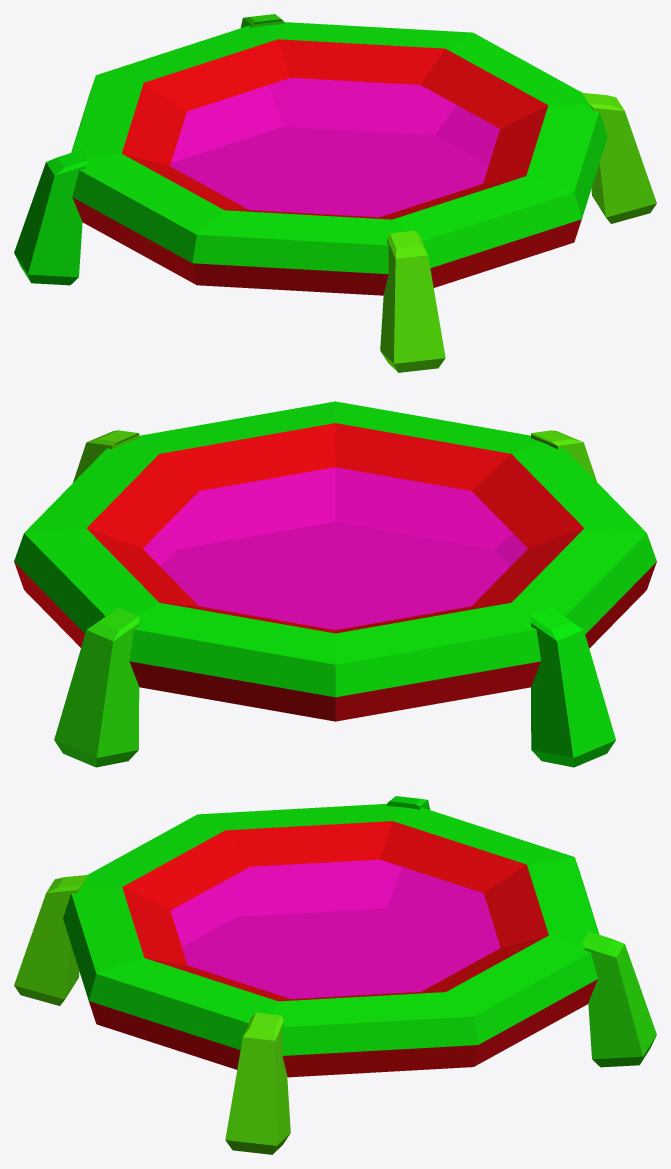
File: SuperBounce.fbx
The picture shows the model from 3 angles, top to bottom: view 1: azimuth 30°, elevation 25°; view 2: azimuth 150°, elevation 25°; view 3: azimuth 270°, elevation 25°; orthographic projection. The views are drawn at different scales.
Visible parts, largest first — view 1: cylinder, cube2, cube1, cube4; view 2: cylinder, cube3, cube1, cube4, cube2; view 3: cylinder, cube4, cube3, cube2.
Boxes of the visible parts, <box> form: cylinder: <box>71,22,607,295</box>; cube2: <box>380,230,445,372</box>; cube1: <box>14,149,88,285</box>; cube4: <box>582,92,656,223</box>; cylinder: <box>14,401,656,721</box>; cube3: <box>54,607,139,767</box>; cube1: <box>531,607,615,767</box>; cube4: <box>73,430,139,482</box>; cube2: <box>531,430,596,481</box>; cylinder: <box>63,804,599,1077</box>; cube4: <box>225,1012,290,1154</box>; cube3: <box>582,931,656,1067</box>; cube2: <box>14,874,88,1005</box>.
Size of what is drawn, in the model's own units: 43.4 by 8.93 by 43.4.
